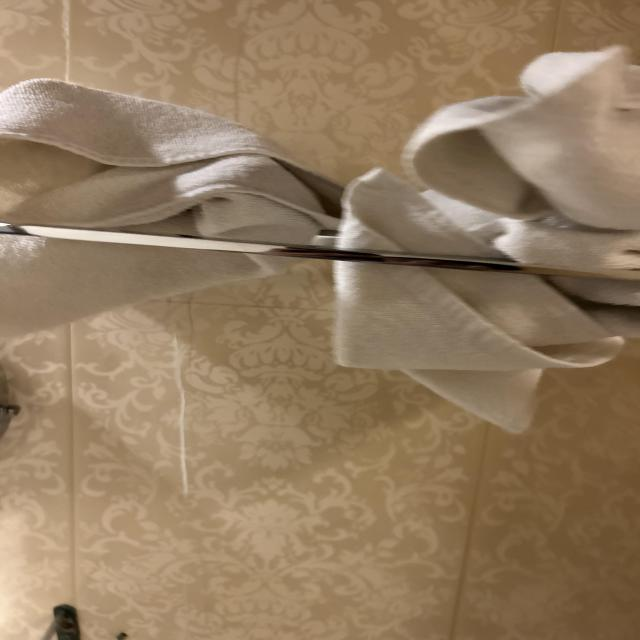mess: (0, 0, 640, 433)
